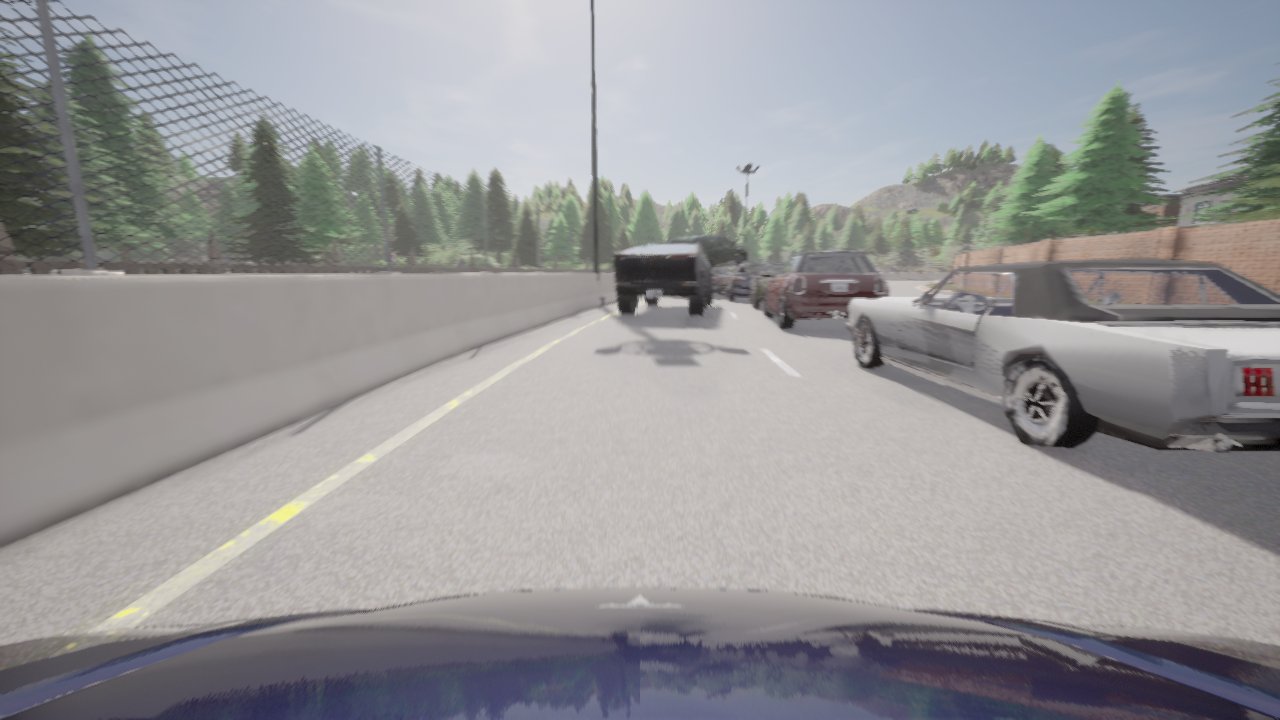cyclist: (0, 588, 1279, 719), (845, 259, 1279, 452), (763, 245, 888, 329), (614, 244, 713, 316), (669, 235, 748, 270), (724, 262, 770, 300), (750, 264, 783, 308), (712, 268, 729, 295)
